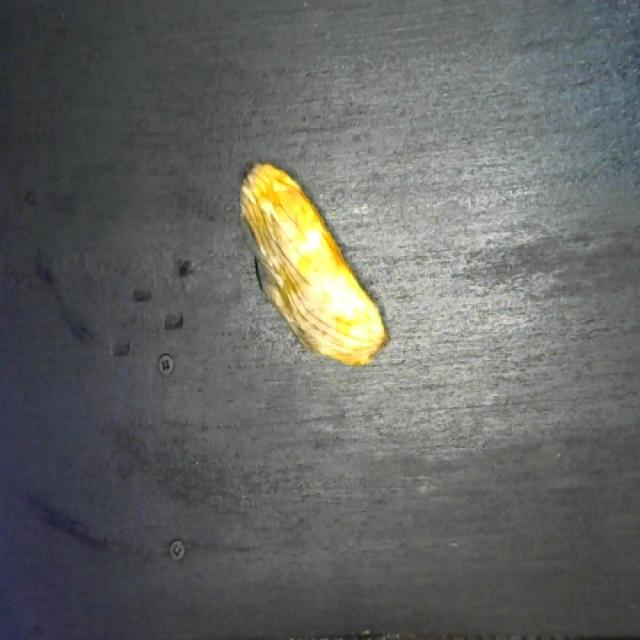biodegradable: (235, 151, 390, 374)
